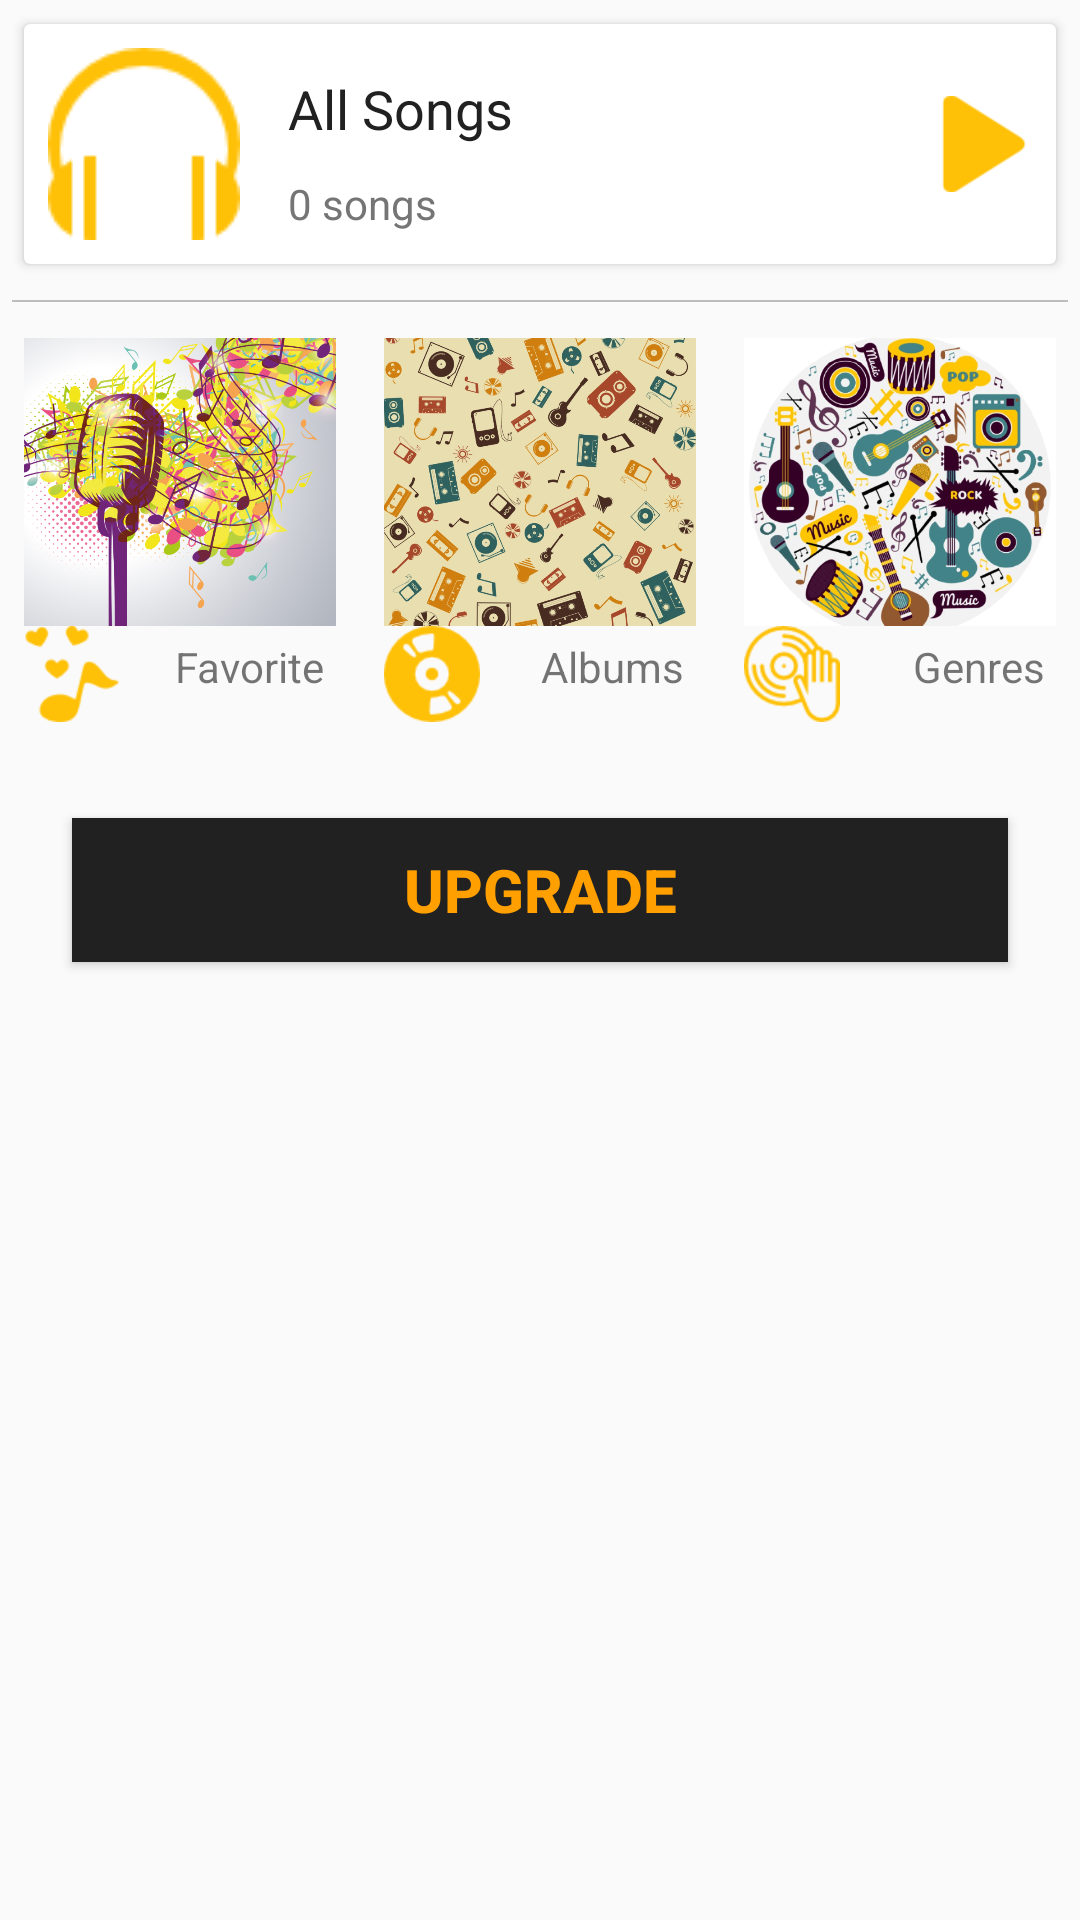

Point at icon controls on the screen. Image size 1080w x 1920h, points as point (x, y).
headphones: point (144, 144)
lovesong: point (79, 690)
play: point (983, 144)
